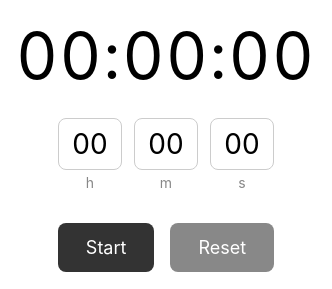
Test: TimerScreen › duration inputs › typing into the minutes input updates the time display
This screenshot has width=332, height=289.
In the field with test id "input-minutes": (166,144) [134,118,198,170], type "30"
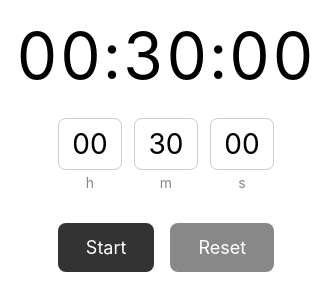
Expected: the text with test id "time-display" reads "00:30:00", [16,16,316,94]
